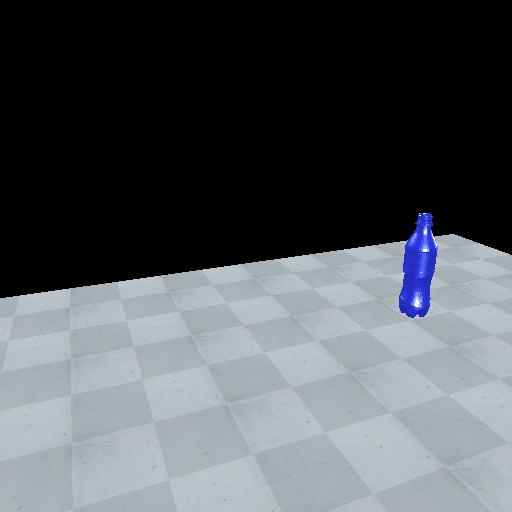bottle: (398, 211, 440, 320)
